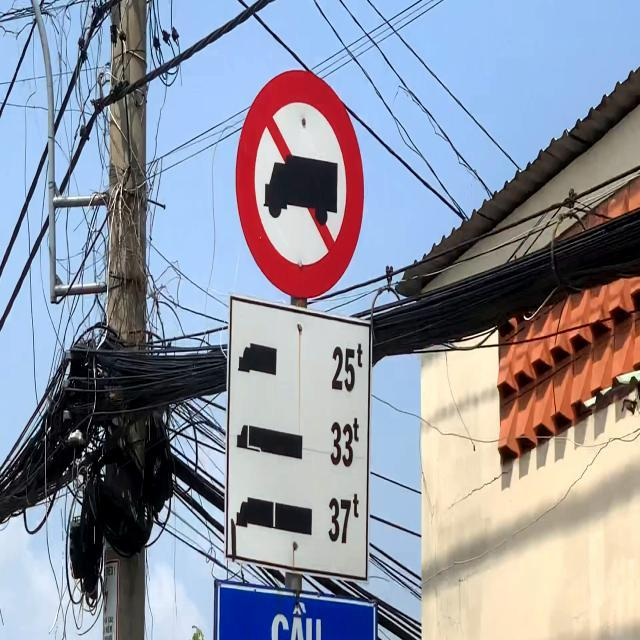Cam xe tai: (236, 67, 364, 300)
